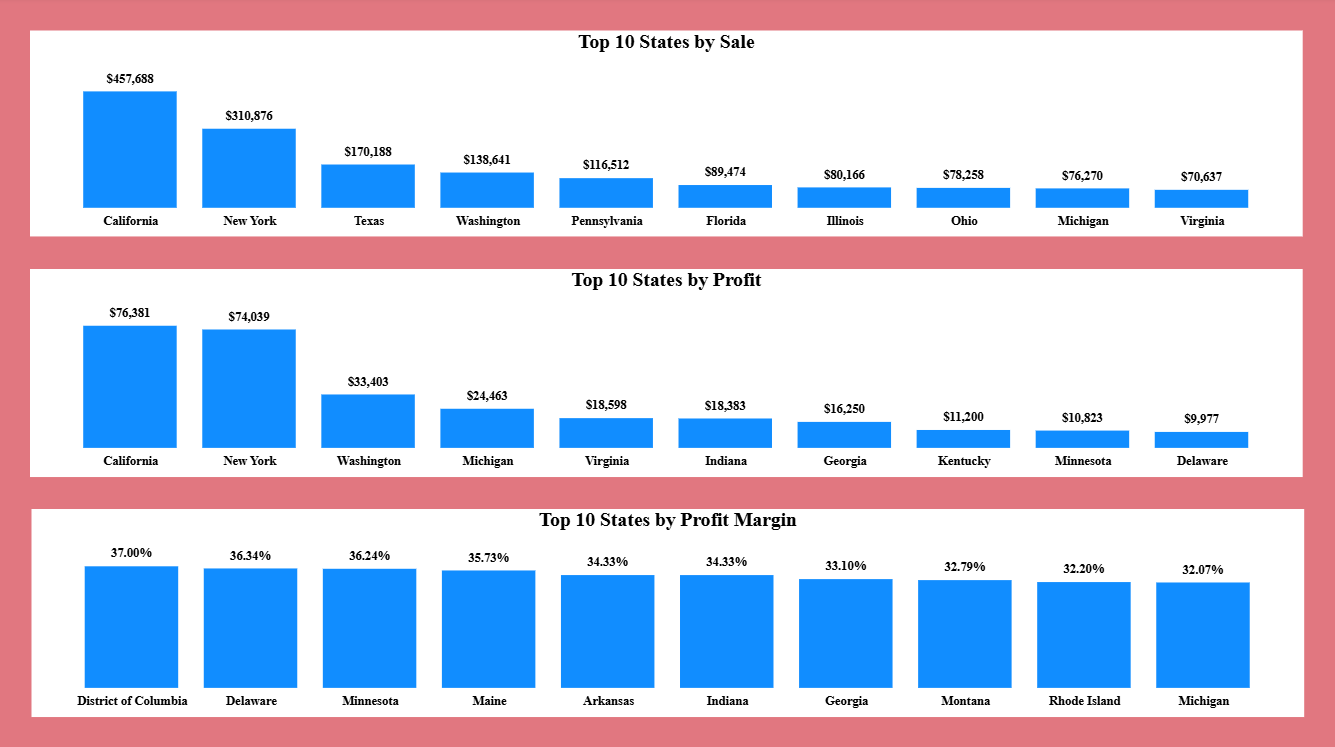

What the dashboard file says about the page in this screenshot:
{"tool":"powerbi","page":{"name":"Page 2","canvas":[1280,720],"ordinal":1},"visuals":[{"type":"clusteredColumnChart","title":"Top 10 States by Sale","fields":{"Category":["Superstore sales dataset.State"],"Y":["Sum(Superstore sales dataset.Sales)"]},"box":[31.8,33.3,1215.2,197],"z":0},{"type":"clusteredColumnChart","title":"Top 10 States by Profit","fields":{"Category":["Superstore sales dataset.State"],"Y":["Sum(Superstore sales dataset.Profit)"]},"box":[31.8,260.6,1215.2,198.5],"z":1000},{"type":"clusteredColumnChart","title":"Top 10 States by Profit Margin","fields":{"Category":["Superstore sales dataset.State"],"Y":["Superstore sales dataset.Profit Margin"]},"box":[33.3,489.4,1215.2,198.5],"z":2000}]}

Visuals, with their boxes in screenshot pixels (x1, y1, x2, y2), scaled from the page's 1280x720 canvas onto the 1335x747 screenshot:
"Top 10 States by Sale" clusteredColumnChart: 33:35:1301:239
"Top 10 States by Profit" clusteredColumnChart: 33:270:1301:476
"Top 10 States by Profit Margin" clusteredColumnChart: 35:508:1302:714
